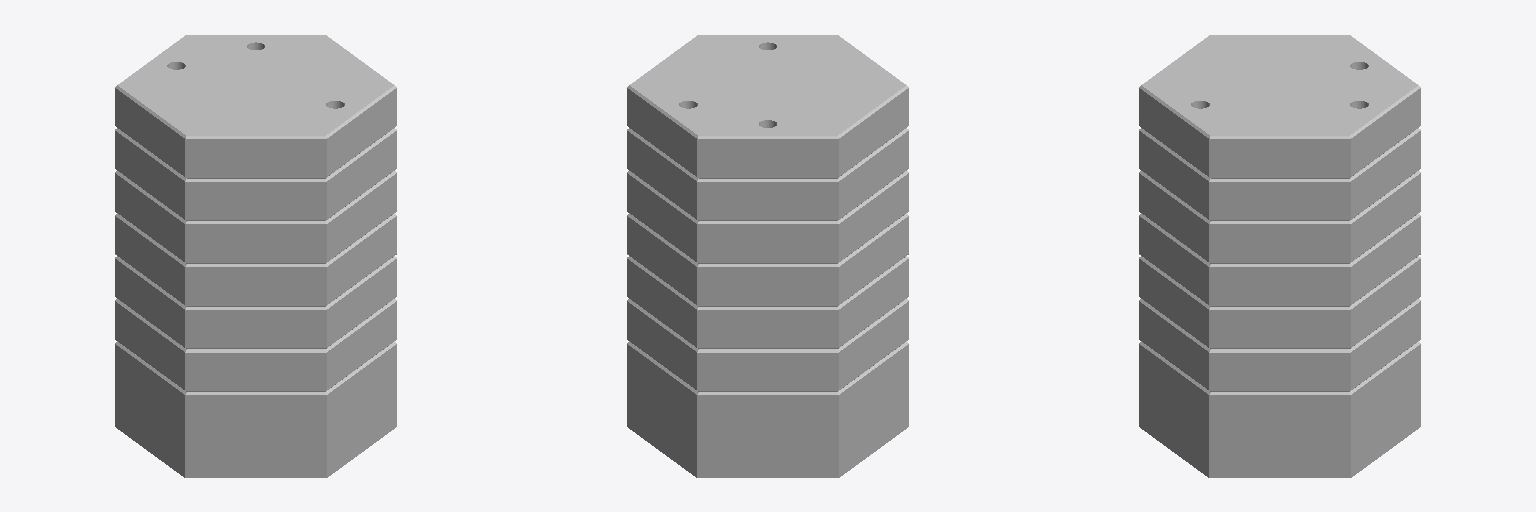
The model's file is lvl7D.obj.
The picture shows the model from 3 angles: view 1: azimuth 30°, elevation 25°; view 2: azimuth 150°, elevation 25°; view 3: azimuth 270°, elevation 25°; orthographic projection.
Parts seen in each view (by area): view 1: Lvl7D-3_(Mono-NoMags); view 2: Lvl7D-3_(Mono-NoMags); view 3: Lvl7D-3_(Mono-NoMags).
Boxes of the visible parts, box(x1,y1,x2,y2) form: Lvl7D-3_(Mono-NoMags): box(115, 35, 396, 477); Lvl7D-3_(Mono-NoMags): box(627, 35, 908, 477); Lvl7D-3_(Mono-NoMags): box(1139, 35, 1420, 477).
Bounding box in the file's own units: 3.13 × 4.83 × 3.62.